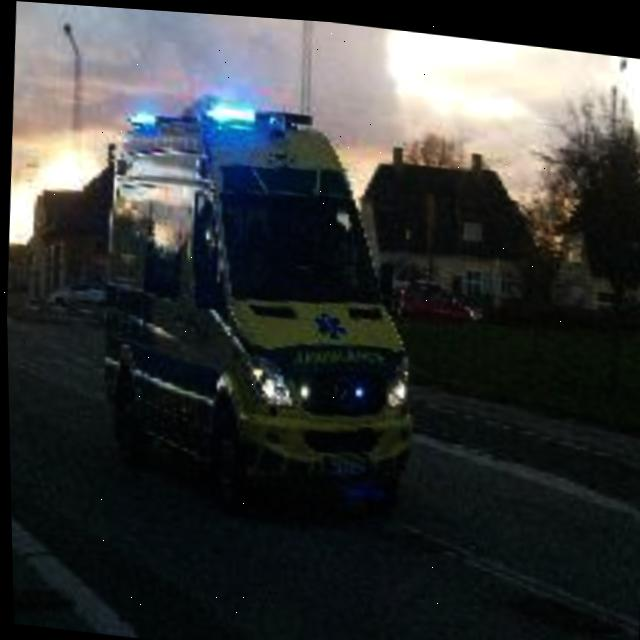emergency: (89, 88, 429, 508)
